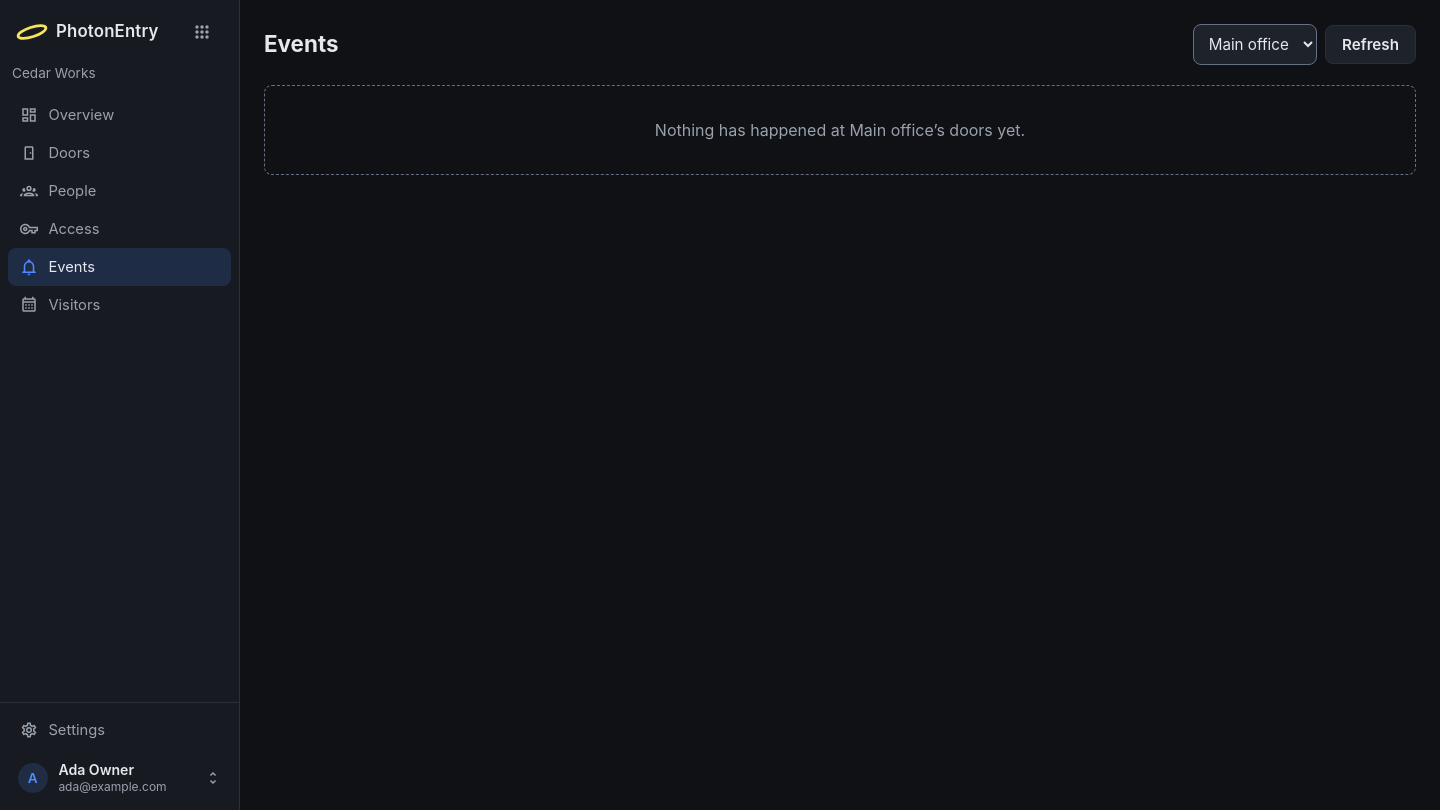
Test: the frame › pages work on the site picked
Select "Annex" in the dropdown named "Site": (1255, 44) [1193,24,1317,65]
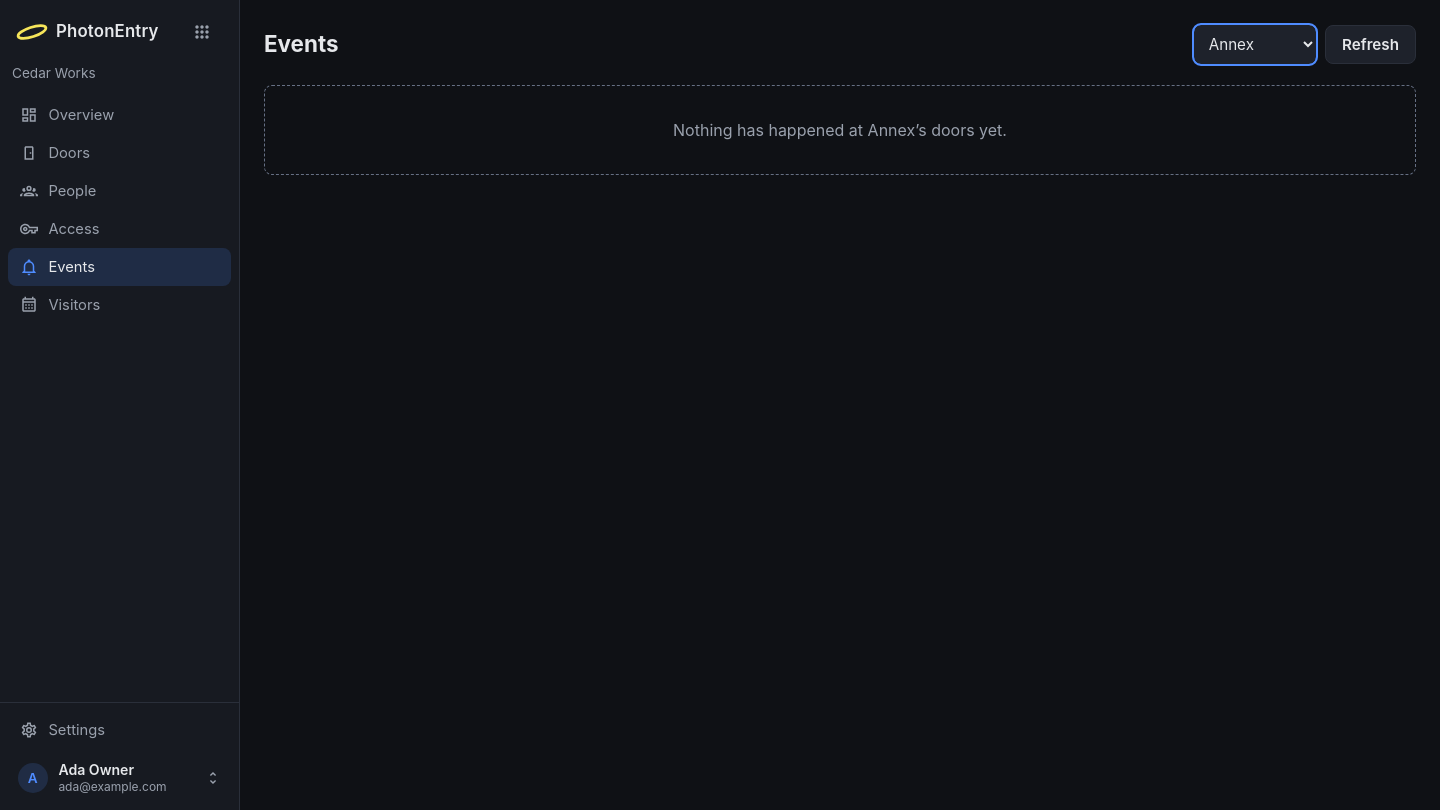
Expected: the text "Nothing has happened at Annex’s doors yet." is shown, [673,120,1007,140]
